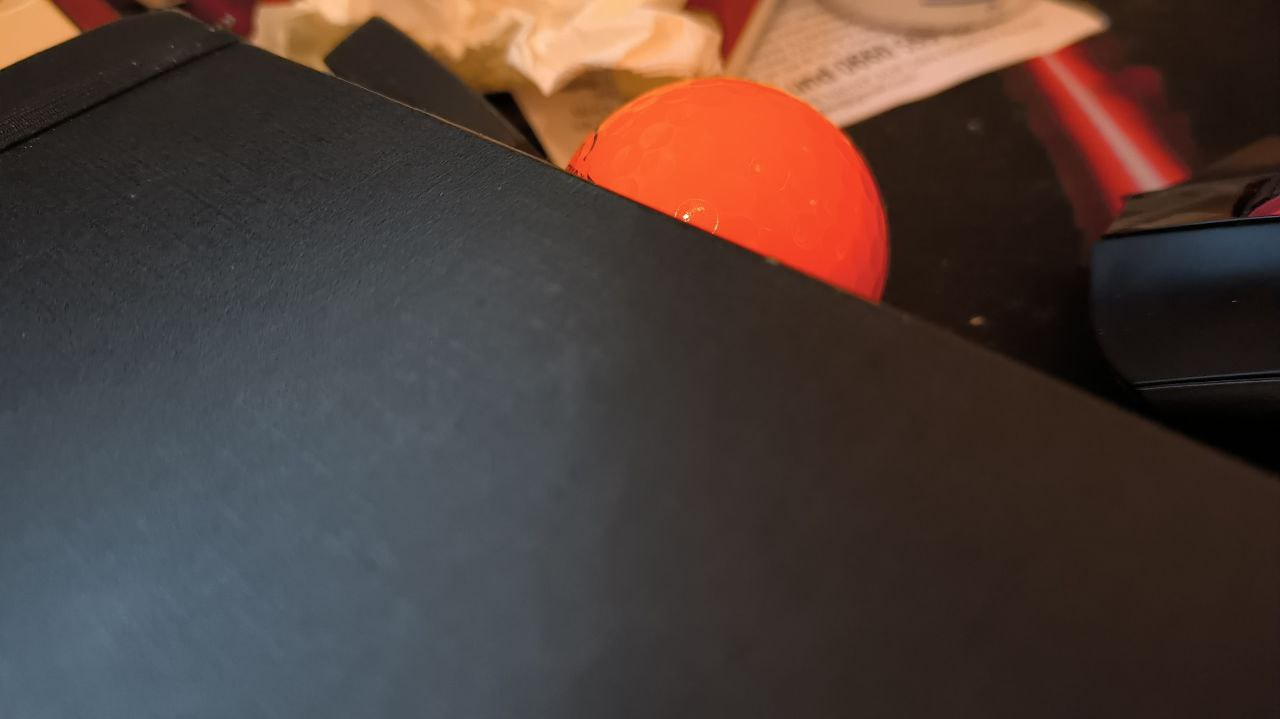orange_ball: (565, 75, 889, 306)
